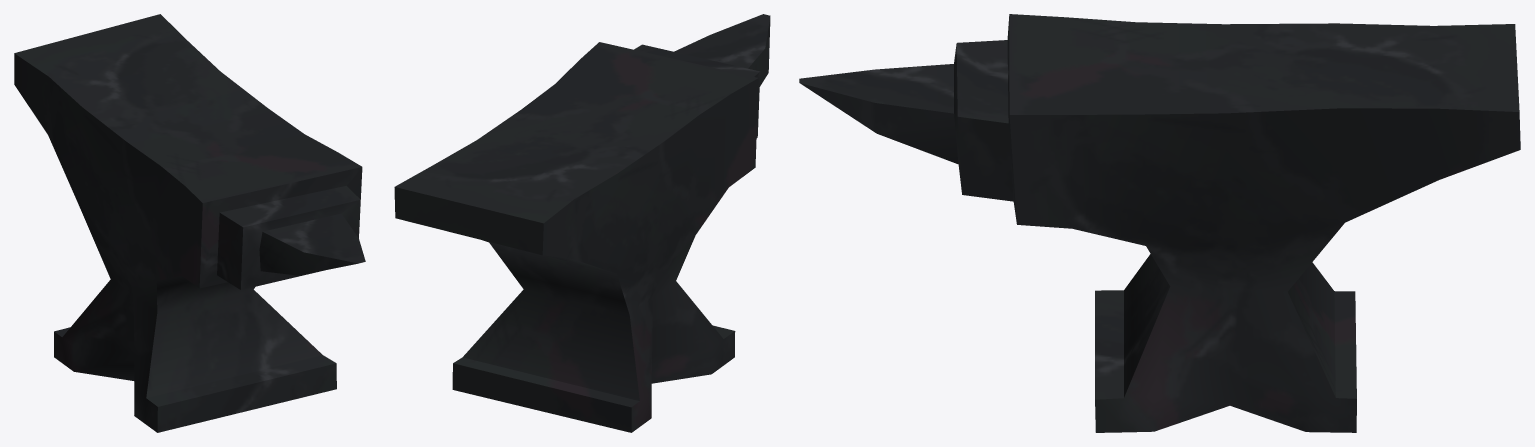
File: SM_PROP_anvil_battle.fbx
3 views of the same model, side by side, from view 1: azimuth 30°, elevation 25°; view 2: azimuth 150°, elevation 25°; view 3: azimuth 270°, elevation 25° (orthographic). The views are drawn at different scales.
Visible parts, largest first — view 1: SM_PROP_anvil_battle; view 2: SM_PROP_anvil_battle; view 3: SM_PROP_anvil_battle.
Boxes of the visible parts, box(x1,y1,x2,y2) form: SM_PROP_anvil_battle: box(14, 14, 365, 432); SM_PROP_anvil_battle: box(394, 14, 770, 432); SM_PROP_anvil_battle: box(799, 14, 1520, 432).
Bounding box in the file's own units: 27.68 × 37.3 × 77.03.
